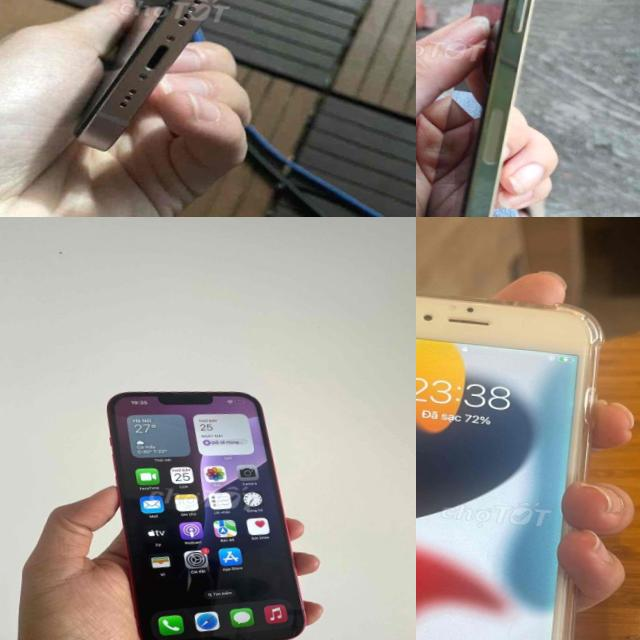gen_12_13: (64, 0, 261, 170), (416, 0, 557, 217)
gen_14: (79, 359, 338, 640)
gen_6: (416, 280, 599, 640)
